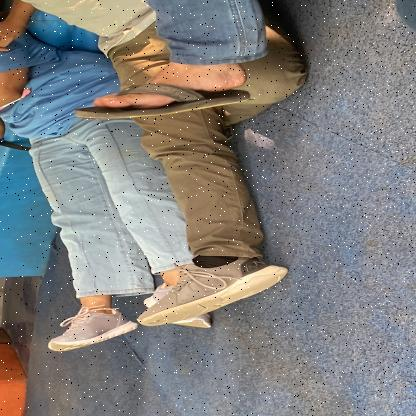leg: (110, 188, 356, 343), (61, 35, 309, 122), (7, 260, 134, 356)
